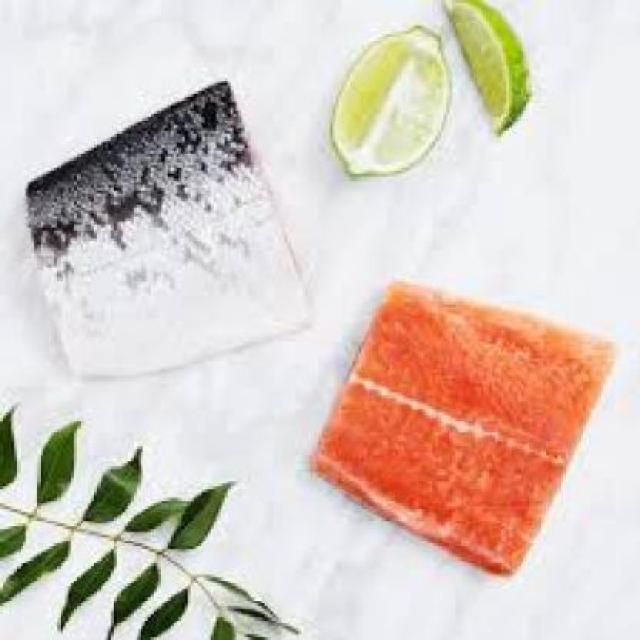salmon: (312, 262, 620, 583)
